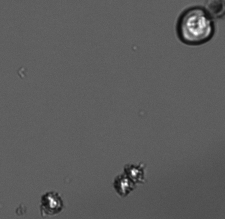Dead Cell: (205, 1, 225, 18)
Living Cell: (177, 8, 215, 44), (41, 192, 63, 215), (114, 174, 133, 197), (125, 163, 145, 182)
